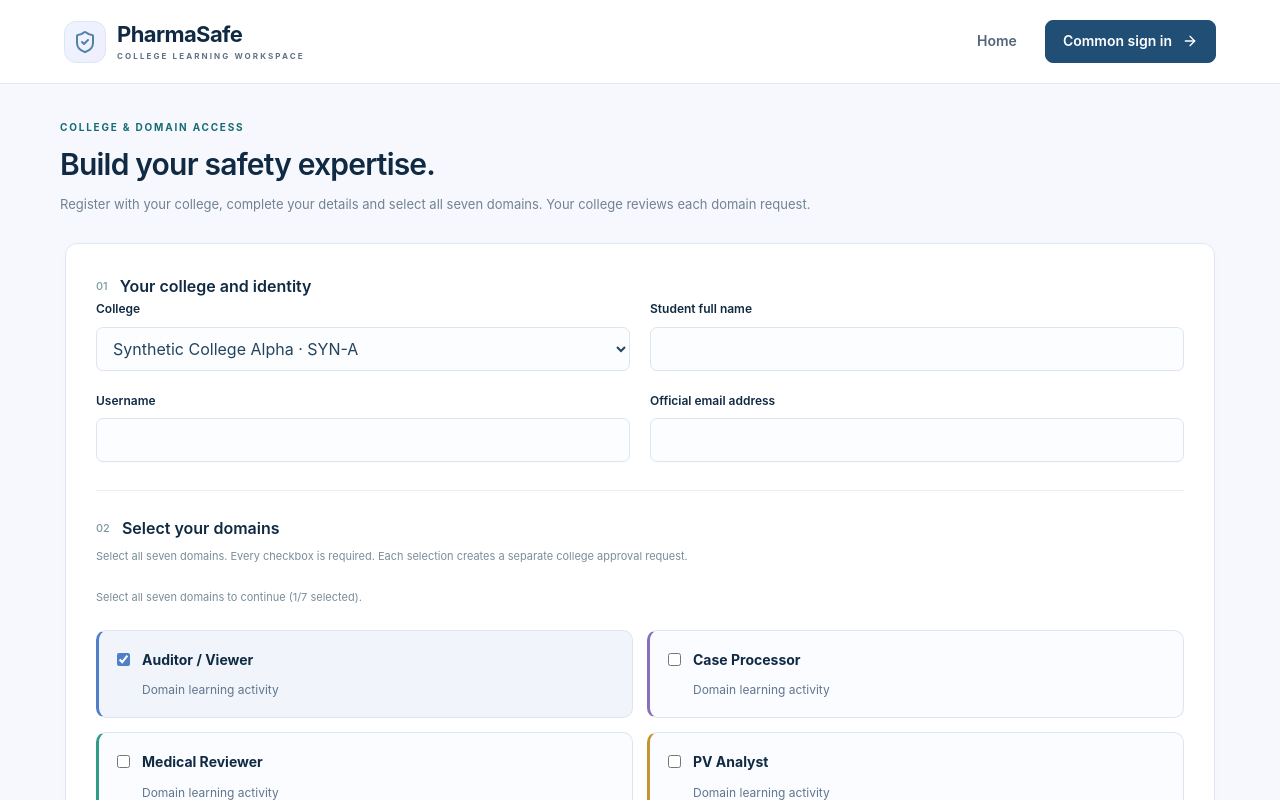
Test: requires all seven domains without exposing or reserving a Student ID
Earlier steps of the test are not shown.
Click the checkbox labelled "Case Processor Domain learning activity".
click(674, 659)  # box [668, 653, 681, 666]
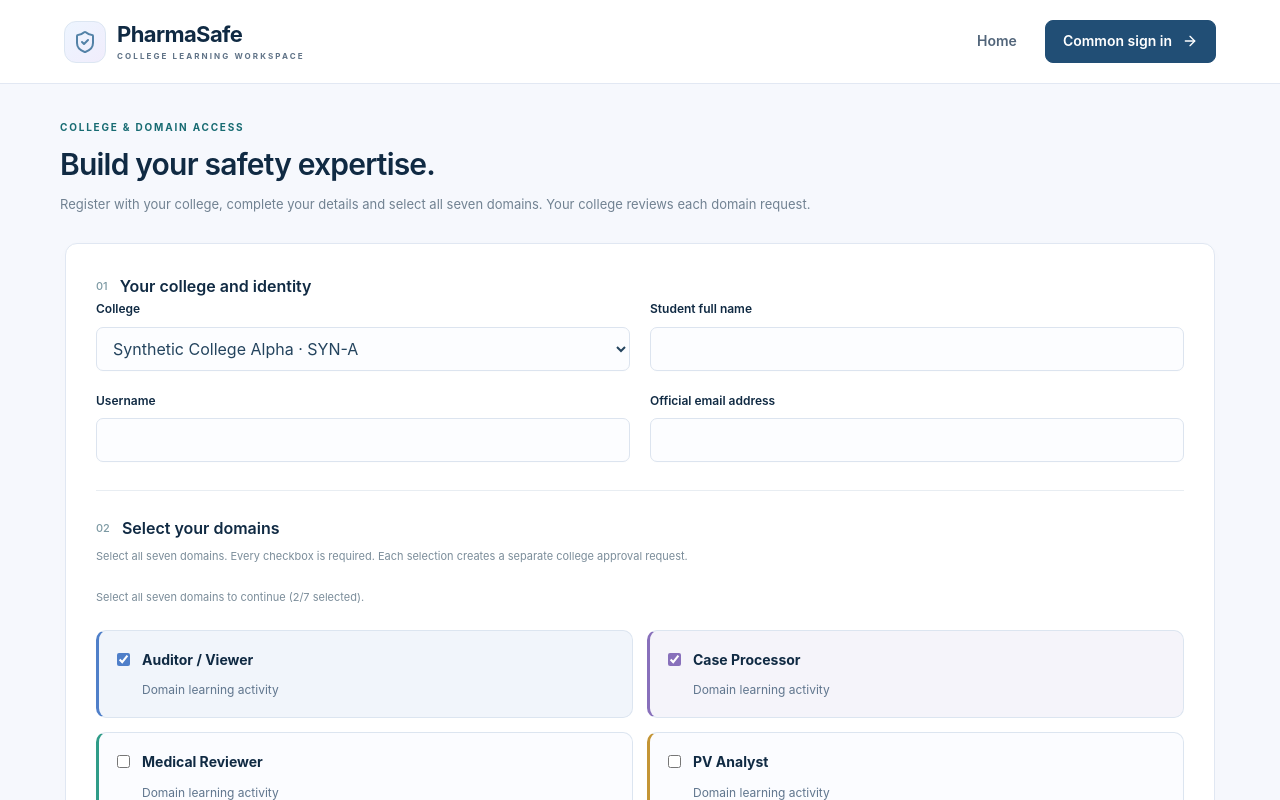
Click the checkbox labelled "Medical Reviewer Domain learning activity".
click(124, 762)  # box [117, 755, 130, 768]
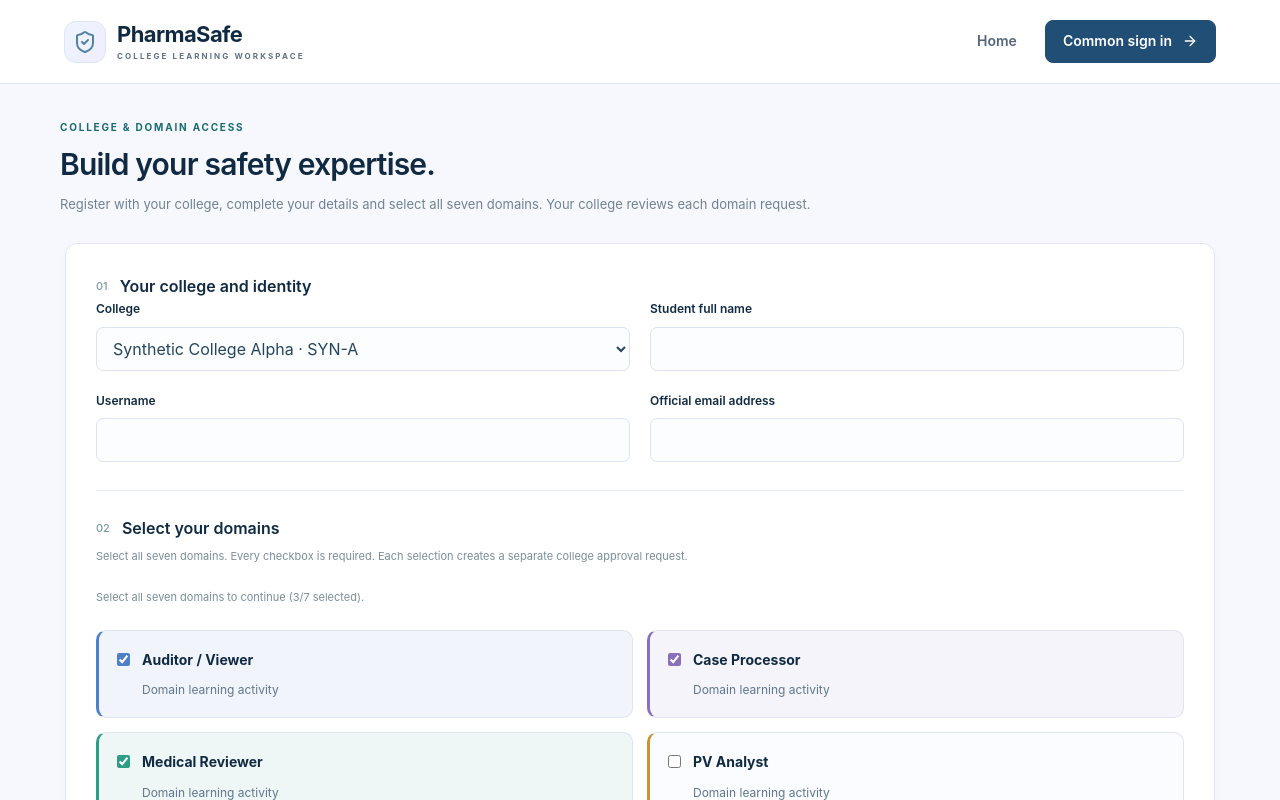
Click the checkbox labelled "PV Analyst Domain learning activity".
click(674, 762)  # box [668, 755, 681, 768]
(page scrolled)
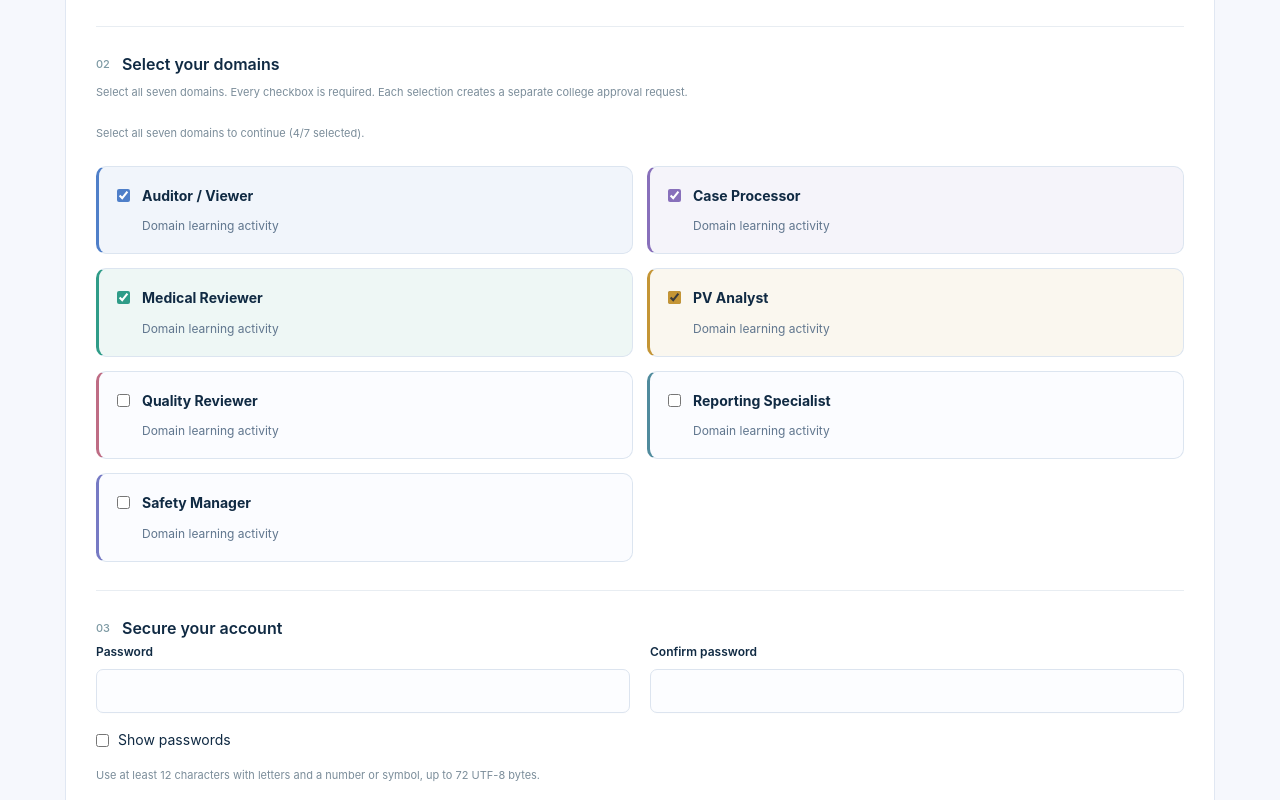
Click the checkbox labelled "Quality Reviewer Domain learning activity".
click(124, 400)  # box [117, 394, 130, 407]
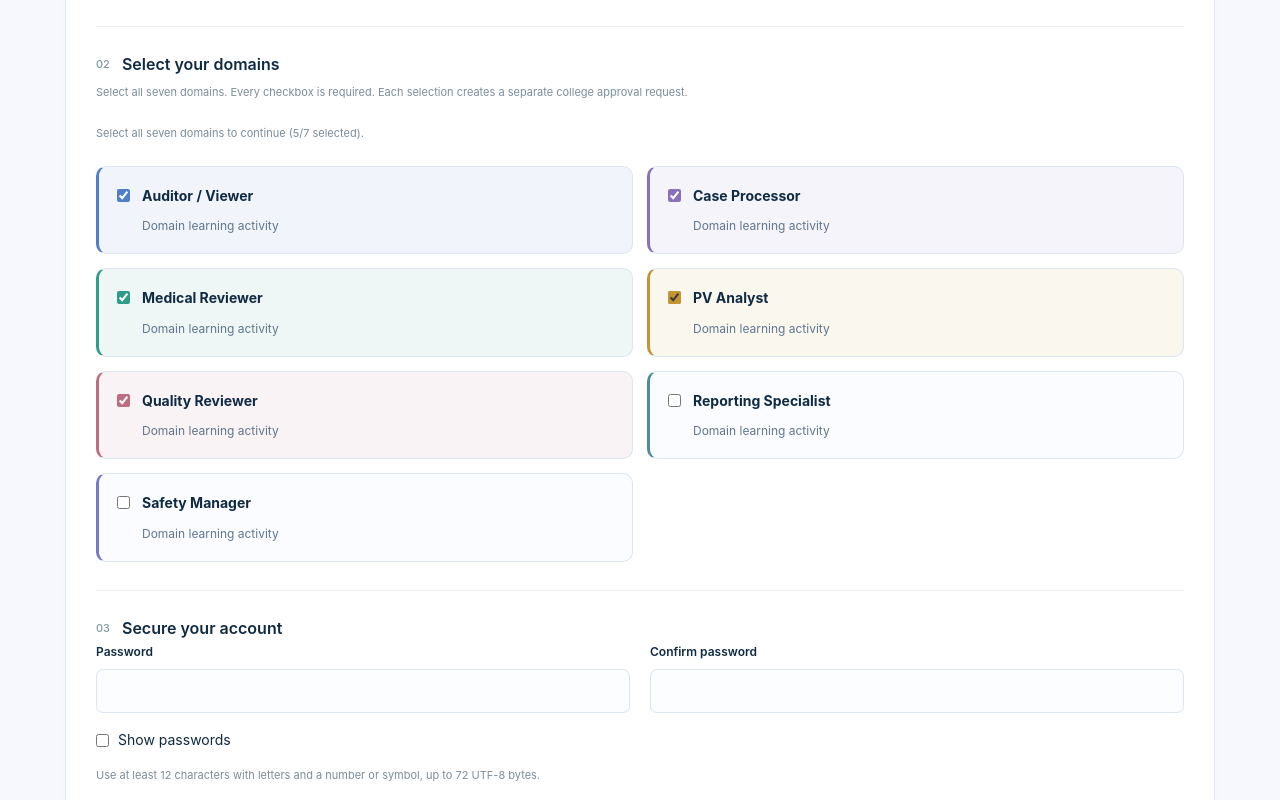
Click the checkbox labelled "Reporting Specialist Domain learning activity".
click(674, 400)  # box [668, 394, 681, 407]
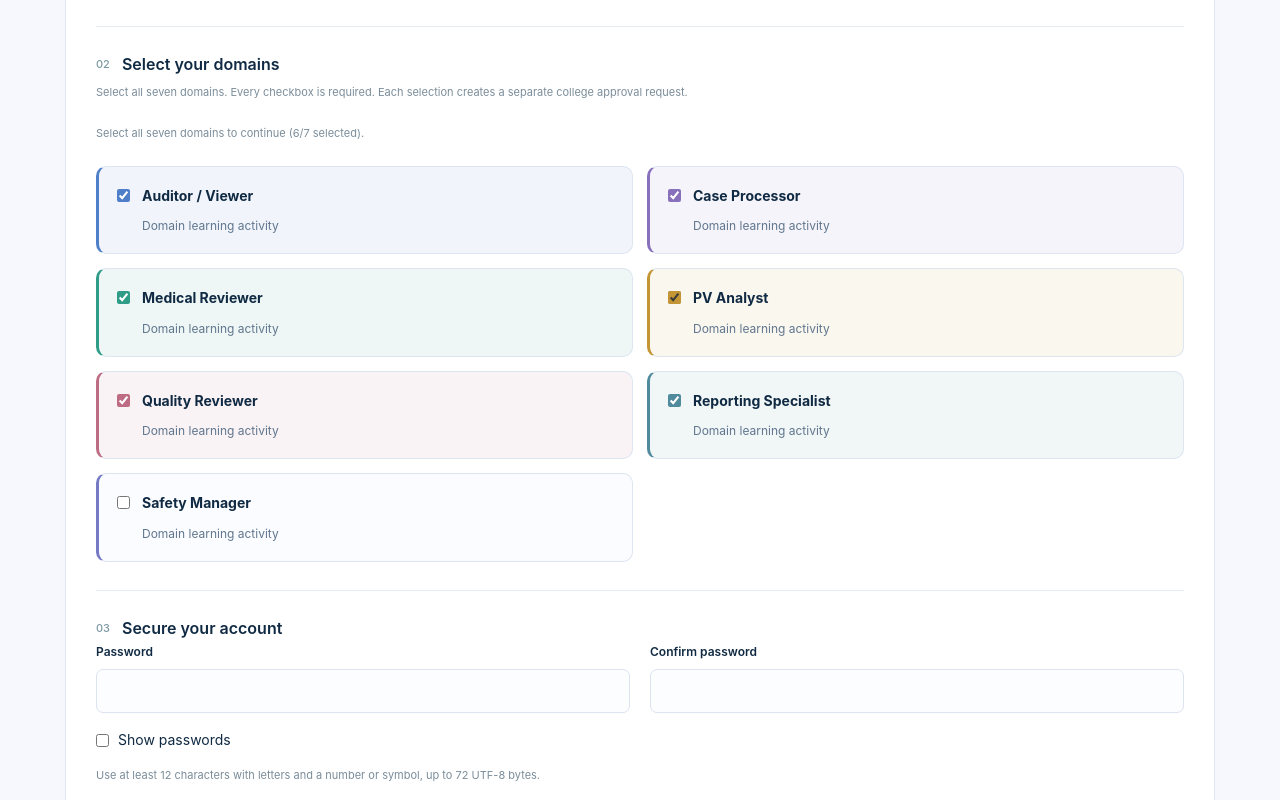
Click the checkbox labelled "Safety Manager Domain learning activity".
click(124, 503)  # box [117, 496, 130, 510]
(page scrolled)
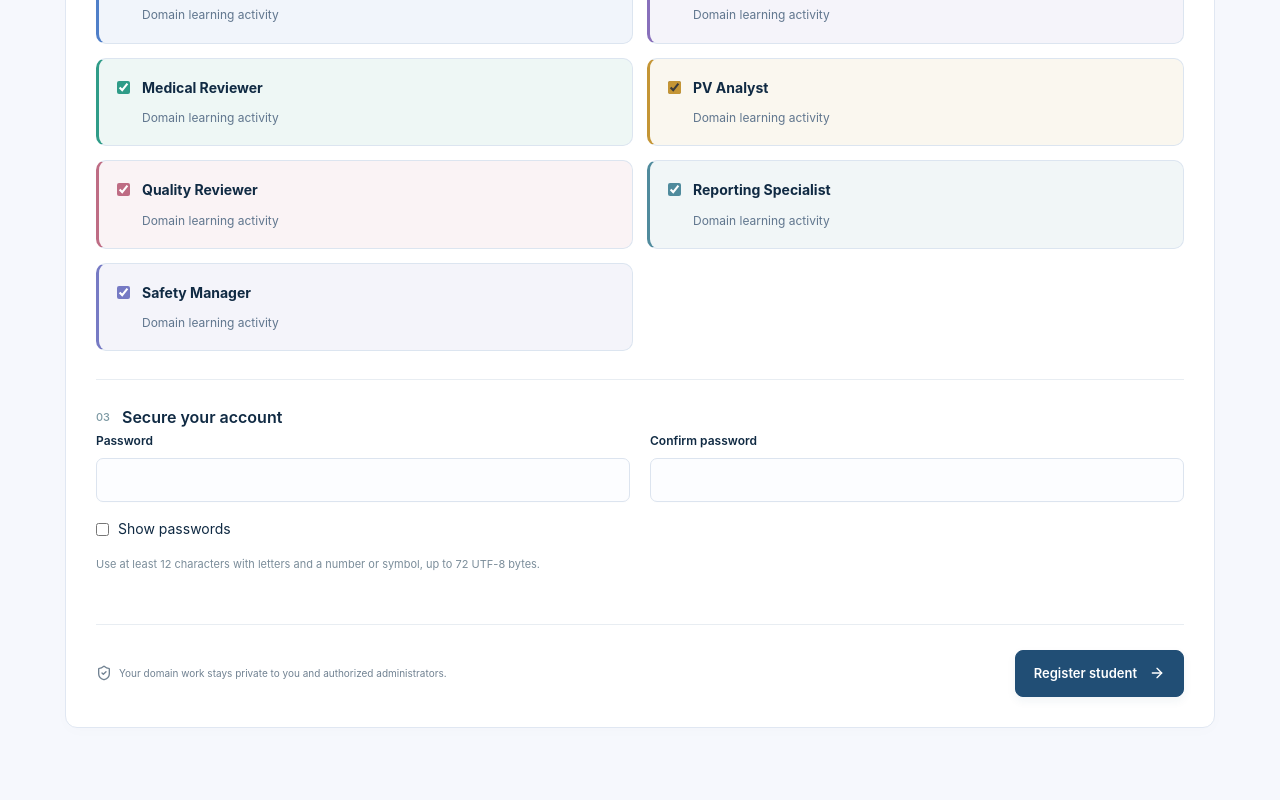
Expected: the button "Register student" is enabled, [1015, 650, 1184, 697]
